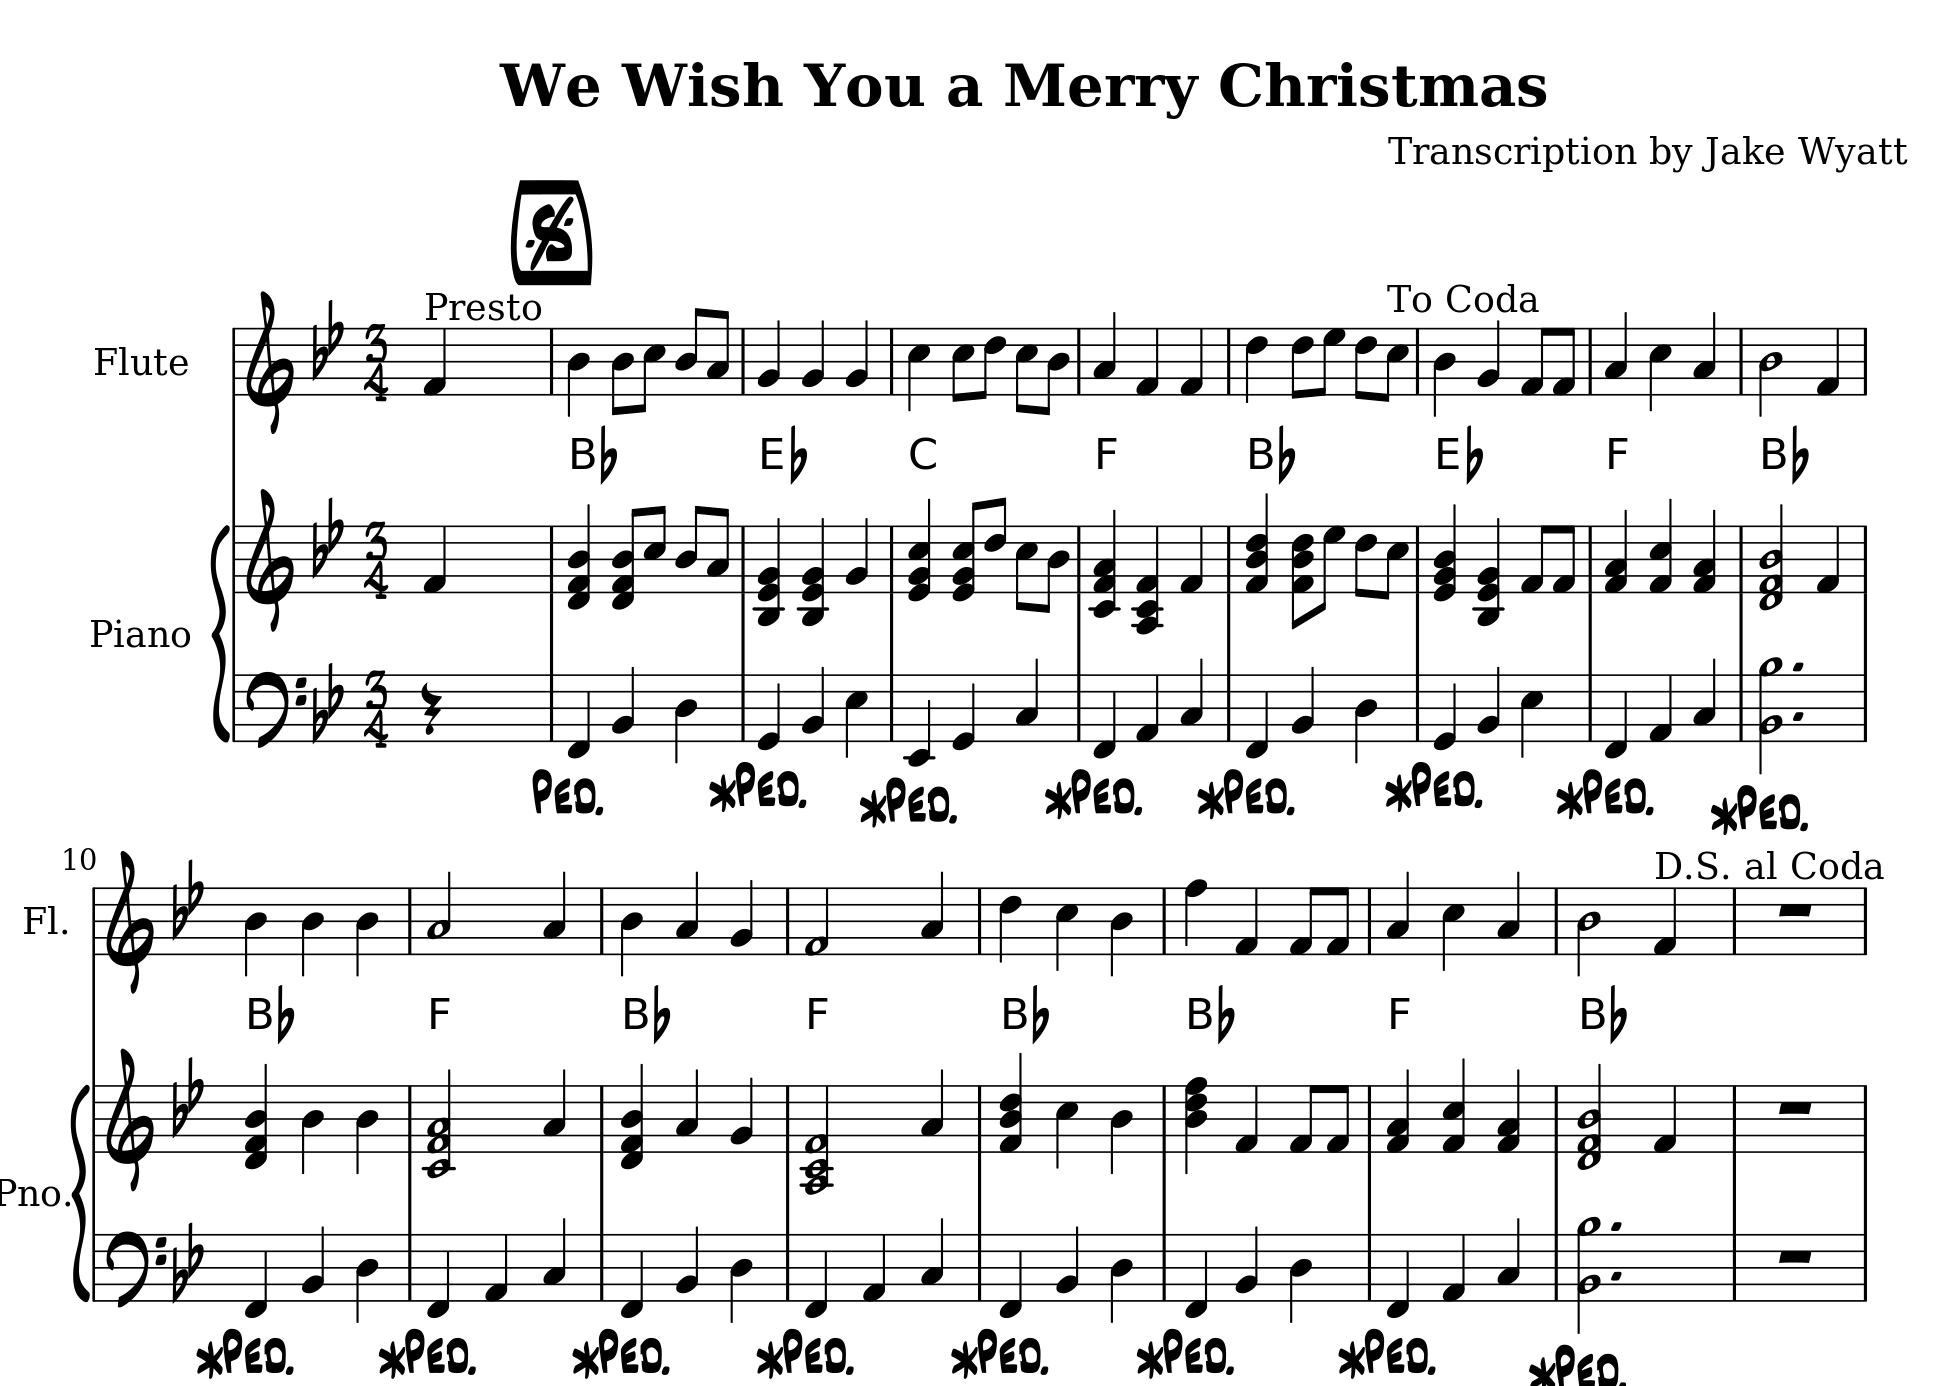0: (78, 843, 97, 874)
1: (61, 844, 76, 873)
2_1: (802, 885, 831, 955)
2_2_9: (1758, 654, 1785, 777)
2_3: (424, 870, 451, 955)
2_4: (1575, 883, 1602, 976), (1758, 325, 1783, 418)
2_th: (799, 1084, 835, 1195), (424, 1068, 457, 1182), (1758, 504, 1788, 610), (1576, 1060, 1605, 1170)
3: (363, 516, 390, 559), (363, 319, 390, 361), (364, 664, 388, 708)
4: (361, 358, 391, 400), (361, 556, 391, 598), (361, 706, 391, 747)
4_-1: (618, 1230, 646, 1320), (565, 670, 592, 760), (1092, 670, 1119, 760), (802, 1231, 829, 1320), (997, 1231, 1024, 1320), (1183, 1231, 1210, 1320), (424, 1231, 451, 1318), (1245, 670, 1270, 760), (1603, 672, 1629, 760), (1386, 1231, 1411, 1320), (243, 1231, 268, 1318)
4_-2: (904, 670, 934, 768)
4_0: (951, 672, 978, 751), (756, 670, 781, 751), (1432, 670, 1458, 751)
4_1: (481, 1231, 510, 1303), (859, 1231, 888, 1303), (1179, 325, 1206, 397), (1134, 670, 1161, 742), (1647, 670, 1674, 742), (1233, 1083, 1260, 1155), (1440, 1231, 1467, 1303), (1134, 325, 1161, 396), (1815, 523, 1842, 594), (1233, 885, 1260, 955), (1179, 523, 1204, 595), (1815, 325, 1840, 396), (421, 523, 447, 594), (1653, 1083, 1678, 1153), (421, 327, 447, 396), (1653, 886, 1678, 955)
4_1_3: (1692, 511, 1720, 595), (1386, 1069, 1411, 1155), (1494, 1068, 1519, 1153), (1605, 510, 1629, 595)
4_1_5: (1647, 499, 1675, 594), (1441, 1059, 1470, 1153)
4_2: (843, 514, 871, 594), (298, 1222, 327, 1302), (1053, 1222, 1081, 1302), (754, 316, 781, 397), (799, 316, 826, 396), (843, 316, 870, 396), (609, 663, 636, 742), (799, 663, 826, 742), (1290, 663, 1317, 742), (1476, 663, 1503, 742), (727, 876, 754, 955), (727, 1074, 754, 1153), (673, 1222, 700, 1302), (1233, 1222, 1260, 1302), (1476, 318, 1501, 396)
4_3: (673, 1065, 700, 1153), (673, 868, 700, 955), (918, 868, 945, 955), (918, 1215, 945, 1302), (1494, 1215, 1521, 1302), (1602, 310, 1629, 396), (541, 1065, 567, 1153), (1014, 655, 1039, 742), (1179, 655, 1204, 742), (1692, 655, 1717, 742), (541, 868, 567, 955), (1384, 868, 1410, 955), (1495, 868, 1521, 955), (541, 1215, 567, 1302), (1092, 310, 1117, 396), (1692, 310, 1717, 396), (919, 1066, 943, 1153)
4_4: (727, 1230, 754, 1324), (670, 670, 697, 763), (298, 1081, 325, 1174), (352, 1081, 379, 1174), (1107, 1081, 1134, 1174), (352, 1230, 379, 1323), (1431, 325, 1458, 417), (241, 885, 268, 976), (298, 885, 325, 976), (352, 885, 379, 976), (1107, 1231, 1134, 1323), (1287, 1231, 1314, 1323), (564, 325, 589, 418), (1353, 670, 1378, 763), (618, 883, 643, 976), (1108, 883, 1134, 976)
4_5: (1518, 670, 1545, 759), (1053, 885, 1080, 972), (843, 670, 868, 759), (1440, 883, 1465, 972), (1053, 1081, 1078, 1170), (904, 325, 930, 412), (1647, 325, 1672, 412)
4_6: (997, 885, 1023, 964), (1243, 325, 1267, 403)
4_8: (1182, 876, 1209, 957)
4_th: (1089, 505, 1123, 622), (1474, 510, 1506, 625), (799, 514, 829, 627), (754, 517, 784, 625), (618, 1062, 646, 1170), (565, 502, 594, 609), (243, 1060, 270, 1171), (907, 493, 934, 601), (1245, 490, 1272, 595), (999, 1048, 1024, 1153), (1434, 502, 1459, 601)
8_1: (1287, 883, 1320, 955), (1287, 1081, 1320, 1153), (1519, 522, 1551, 594), (1519, 325, 1551, 396), (1326, 1081, 1351, 1155), (1326, 885, 1351, 957), (1552, 325, 1576, 397), (1552, 523, 1576, 595)
8_3: (703, 307, 730, 397), (705, 504, 730, 594)
8_4: (672, 304, 705, 396), (672, 502, 703, 592), (1041, 325, 1071, 417), (1039, 522, 1069, 613), (607, 325, 634, 415)
8_5: (634, 325, 666, 414), (1380, 325, 1410, 403), (1380, 523, 1410, 600), (640, 502, 664, 595), (1014, 325, 1038, 415), (1014, 522, 1038, 612), (949, 325, 973, 403)
8_6: (982, 493, 1006, 597), (976, 325, 1006, 400), (1288, 325, 1314, 399), (1353, 325, 1377, 400), (1353, 523, 1377, 598)
8_7: (1318, 523, 1345, 613), (1315, 325, 1345, 396)
8_th: (610, 504, 643, 613), (952, 496, 981, 603), (1290, 520, 1315, 627)
B_F: (169, 856, 204, 940), (171, 1054, 205, 1138), (310, 298, 345, 381), (310, 495, 343, 579), (310, 661, 343, 744)
Brace: (70, 1075, 91, 1300)
Fclef: (244, 669, 307, 751), (103, 1228, 166, 1309)
Fl: (19, 901, 58, 937), (93, 343, 127, 379)
Flat: (597, 421, 619, 484), (1276, 424, 1299, 487), (1788, 421, 1810, 484), (1462, 423, 1485, 484), (787, 424, 808, 486)
Gclef: (243, 286, 294, 433), (103, 847, 154, 994), (103, 1045, 154, 1191), (244, 486, 292, 633)
Pno: (87, 616, 192, 649), (1, 1174, 60, 1212)
Rests1: (1773, 898, 1816, 919), (1773, 1245, 1815, 1264), (1773, 1096, 1815, 1114)
Rests4: (418, 679, 442, 736)
Segno: (523, 196, 577, 267)
Single_barline: (970, 886, 988, 952), (1857, 886, 1873, 955), (543, 673, 559, 741), (594, 1233, 610, 1300), (1221, 526, 1237, 592), (735, 673, 751, 739), (778, 886, 795, 952), (402, 886, 418, 952), (594, 886, 610, 952), (1156, 886, 1173, 952), (1548, 886, 1564, 952), (778, 1084, 795, 1150), (972, 1084, 988, 1150), (1726, 1084, 1743, 1150), (1221, 328, 1237, 393), (1071, 526, 1087, 591), (1410, 526, 1426, 591), (402, 1086, 418, 1150), (594, 1086, 610, 1149), (1858, 325, 1873, 394), (543, 528, 559, 589), (1584, 327, 1599, 394), (1584, 525, 1599, 592), (1858, 525, 1873, 592), (1221, 673, 1236, 741), (1857, 673, 1872, 741), (1728, 886, 1743, 954), (1362, 1084, 1377, 1152), (1857, 1084, 1872, 1152), (1728, 1233, 1743, 1300), (1857, 1233, 1872, 1300), (736, 327, 751, 393), (883, 327, 898, 393), (1734, 327, 1749, 393), (544, 328, 559, 394), (883, 525, 898, 591), (1734, 673, 1749, 739), (883, 673, 898, 739), (1071, 673, 1086, 739), (1410, 673, 1425, 739), (1362, 886, 1377, 952), (1158, 1084, 1173, 1150), (1734, 526, 1749, 591), (1549, 1084, 1564, 1149), (1549, 1233, 1564, 1297), (736, 526, 751, 589), (226, 325, 240, 394), (1072, 327, 1086, 393), (1411, 328, 1425, 394), (973, 1234, 987, 1300), (229, 523, 241, 594), (88, 1084, 100, 1152), (229, 675, 241, 738), (88, 1234, 100, 1297), (88, 886, 99, 955)
Slur: (208, 522, 231, 742)
TimeSig: (361, 322, 390, 403), (361, 520, 390, 601), (361, 669, 388, 751)
ToCoda: (1383, 277, 1540, 318)
dot: (1609, 1218, 1624, 1234), (1791, 658, 1806, 673), (1609, 1267, 1624, 1281), (1792, 709, 1806, 723)
